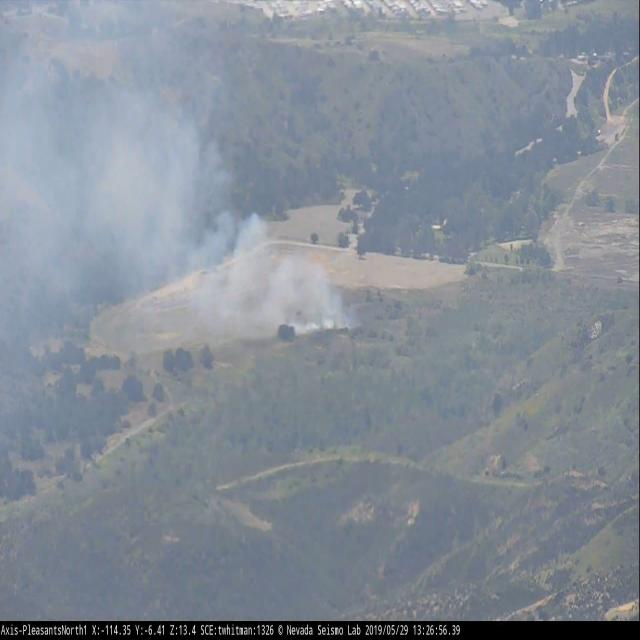smoke: (0, 58, 358, 339)
